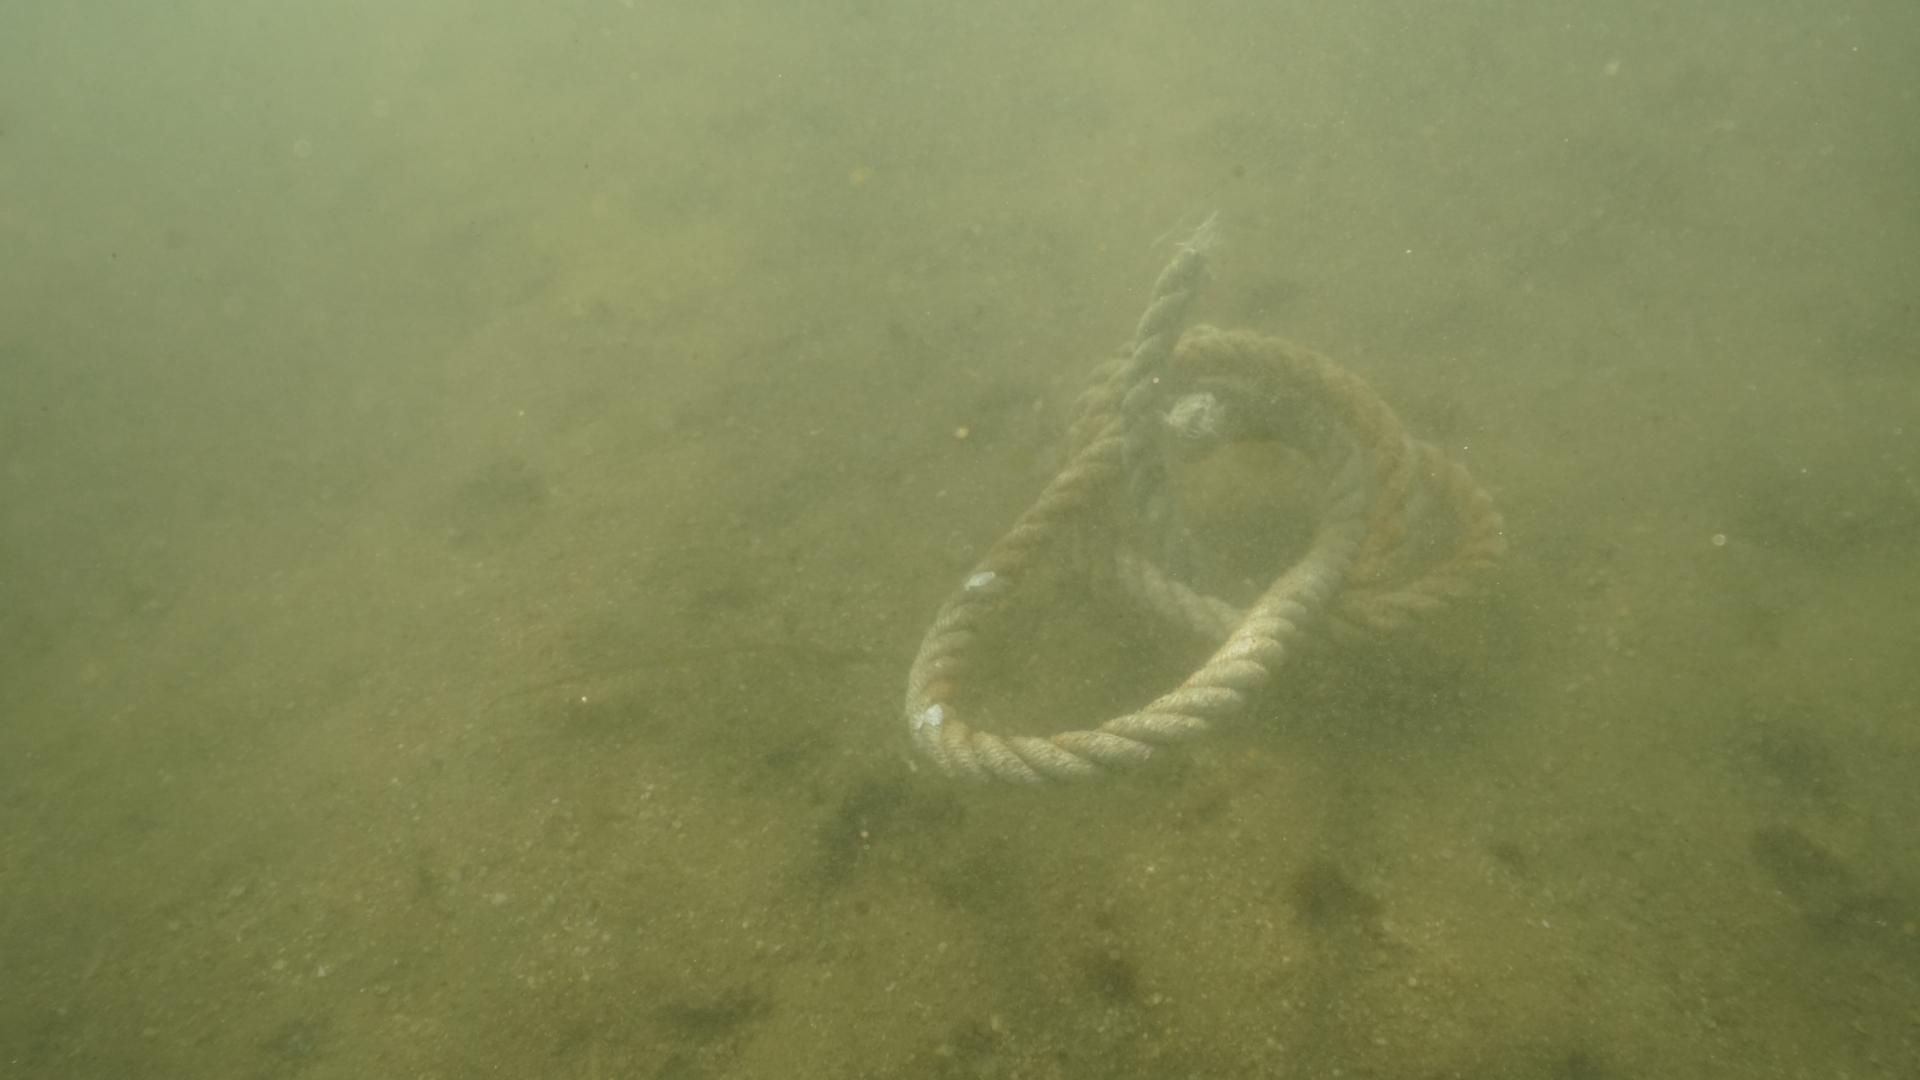bundle of ropes: (897, 251, 1513, 800)
